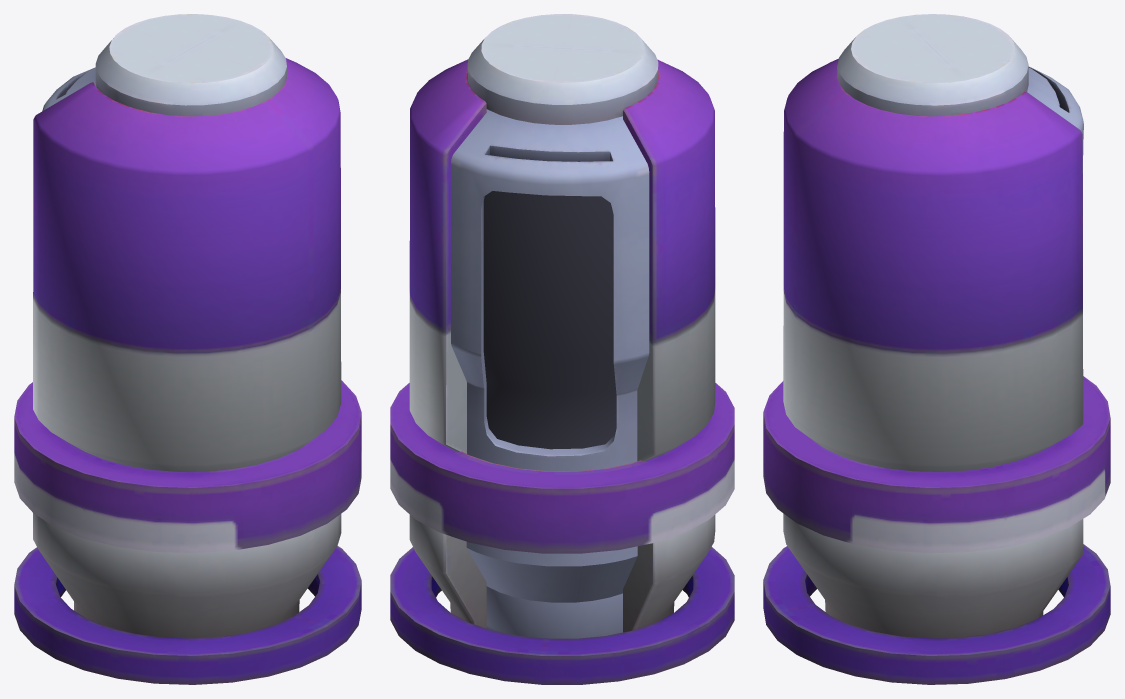
File: pref_sm_choujiangjiemian_mx03_lv3.fbx
The picture shows the model from 3 angles, left to right: view 1: azimuth 30°, elevation 25°; view 2: azimuth 150°, elevation 25°; view 3: azimuth 270°, elevation 25°; orthographic projection.
Parts seen in each view (by area): view 1: sm_choujiangjiemian_mx03_lv3; view 2: sm_choujiangjiemian_mx03_lv3; view 3: sm_choujiangjiemian_mx03_lv3.
Boxes of the visible parts, box(x1,y1,x2,y2) form: sm_choujiangjiemian_mx03_lv3: box(14, 14, 361, 684); sm_choujiangjiemian_mx03_lv3: box(390, 14, 734, 684); sm_choujiangjiemian_mx03_lv3: box(763, 14, 1110, 684).
Size of the model in its own units: 1.1 by 2.06 by 1.1.
